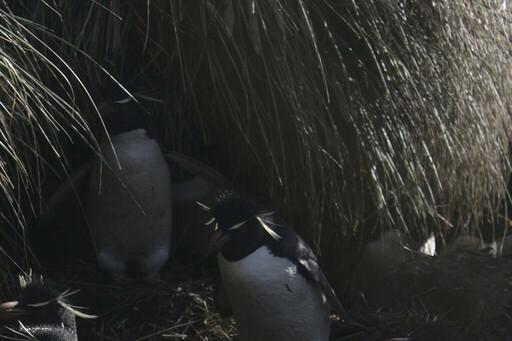Southern Rockhopper Penguin: (193, 178, 366, 341), (67, 79, 178, 303), (0, 300, 175, 341), (0, 277, 103, 341), (375, 318, 511, 341)
